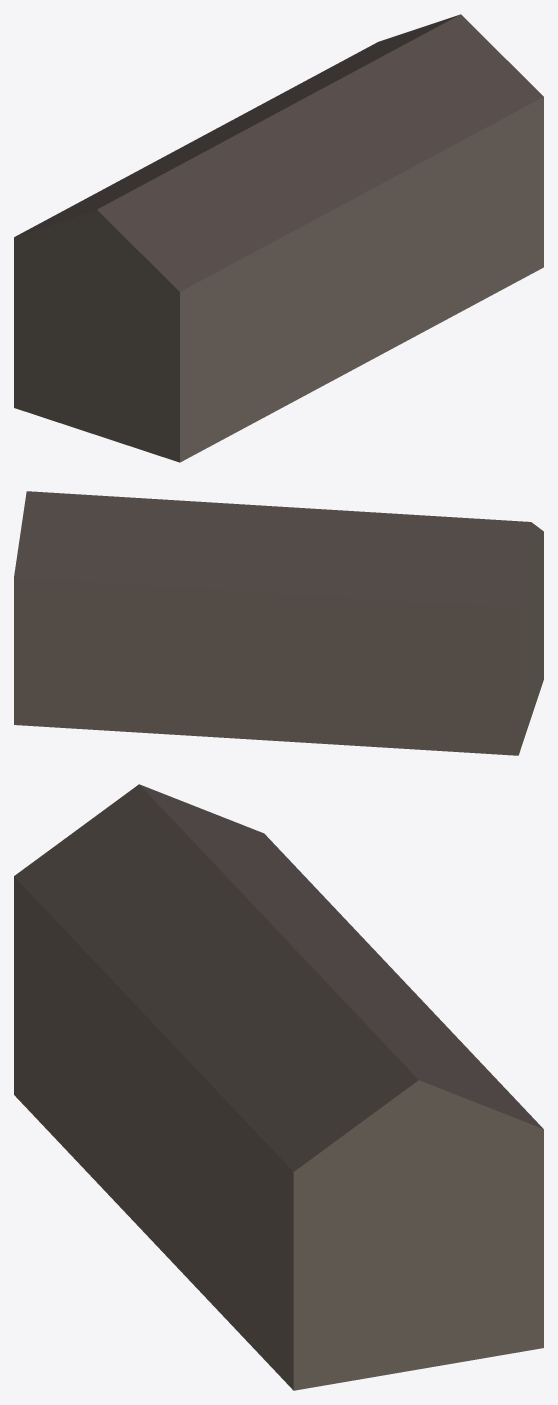
3 views of the same model, one above another, from view 1: azimuth 30°, elevation 25°; view 2: azimuth 150°, elevation 25°; view 3: azimuth 270°, elevation 25° (orthographic). The views are drawn at different scales.
Visible parts, largest first — view 1: HP-w373833577; view 2: HP-w373833577; view 3: HP-w373833577.
Boxes of the visible parts, x1,y1,x2,y2 form: HP-w373833577: (14, 14, 543, 462); HP-w373833577: (14, 491, 543, 755); HP-w373833577: (14, 784, 543, 1390).
Bounding box in the file's own units: 29.89 × 11.91 × 19.77.
